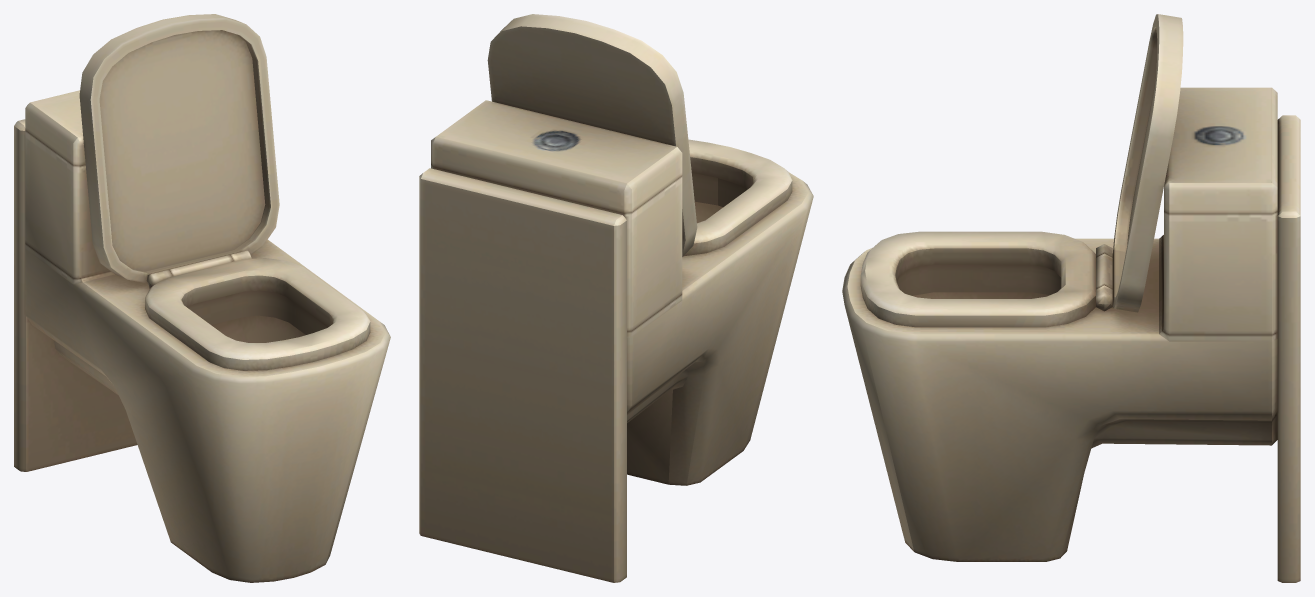
The model's file is compact_lavatory.glb.
The picture shows the model from 3 angles, left to right: view 1: azimuth 30°, elevation 25°; view 2: azimuth 150°, elevation 25°; view 3: azimuth 270°, elevation 25°; orthographic projection. The views are drawn at different scales.
Visible parts, largest first — view 1: TinyLiving_CompactLavatory; view 2: TinyLiving_CompactLavatory; view 3: TinyLiving_CompactLavatory.
Boxes of the visible parts, left/top/right/bottom form: TinyLiving_CompactLavatory: left=14, top=14, right=390, bottom=582; TinyLiving_CompactLavatory: left=419, top=14, right=813, bottom=582; TinyLiving_CompactLavatory: left=842, top=14, right=1300, bottom=582.
Bounding box in the file's own units: 0.385 × 0.8925 × 0.744.
1 material, 1 textured.
